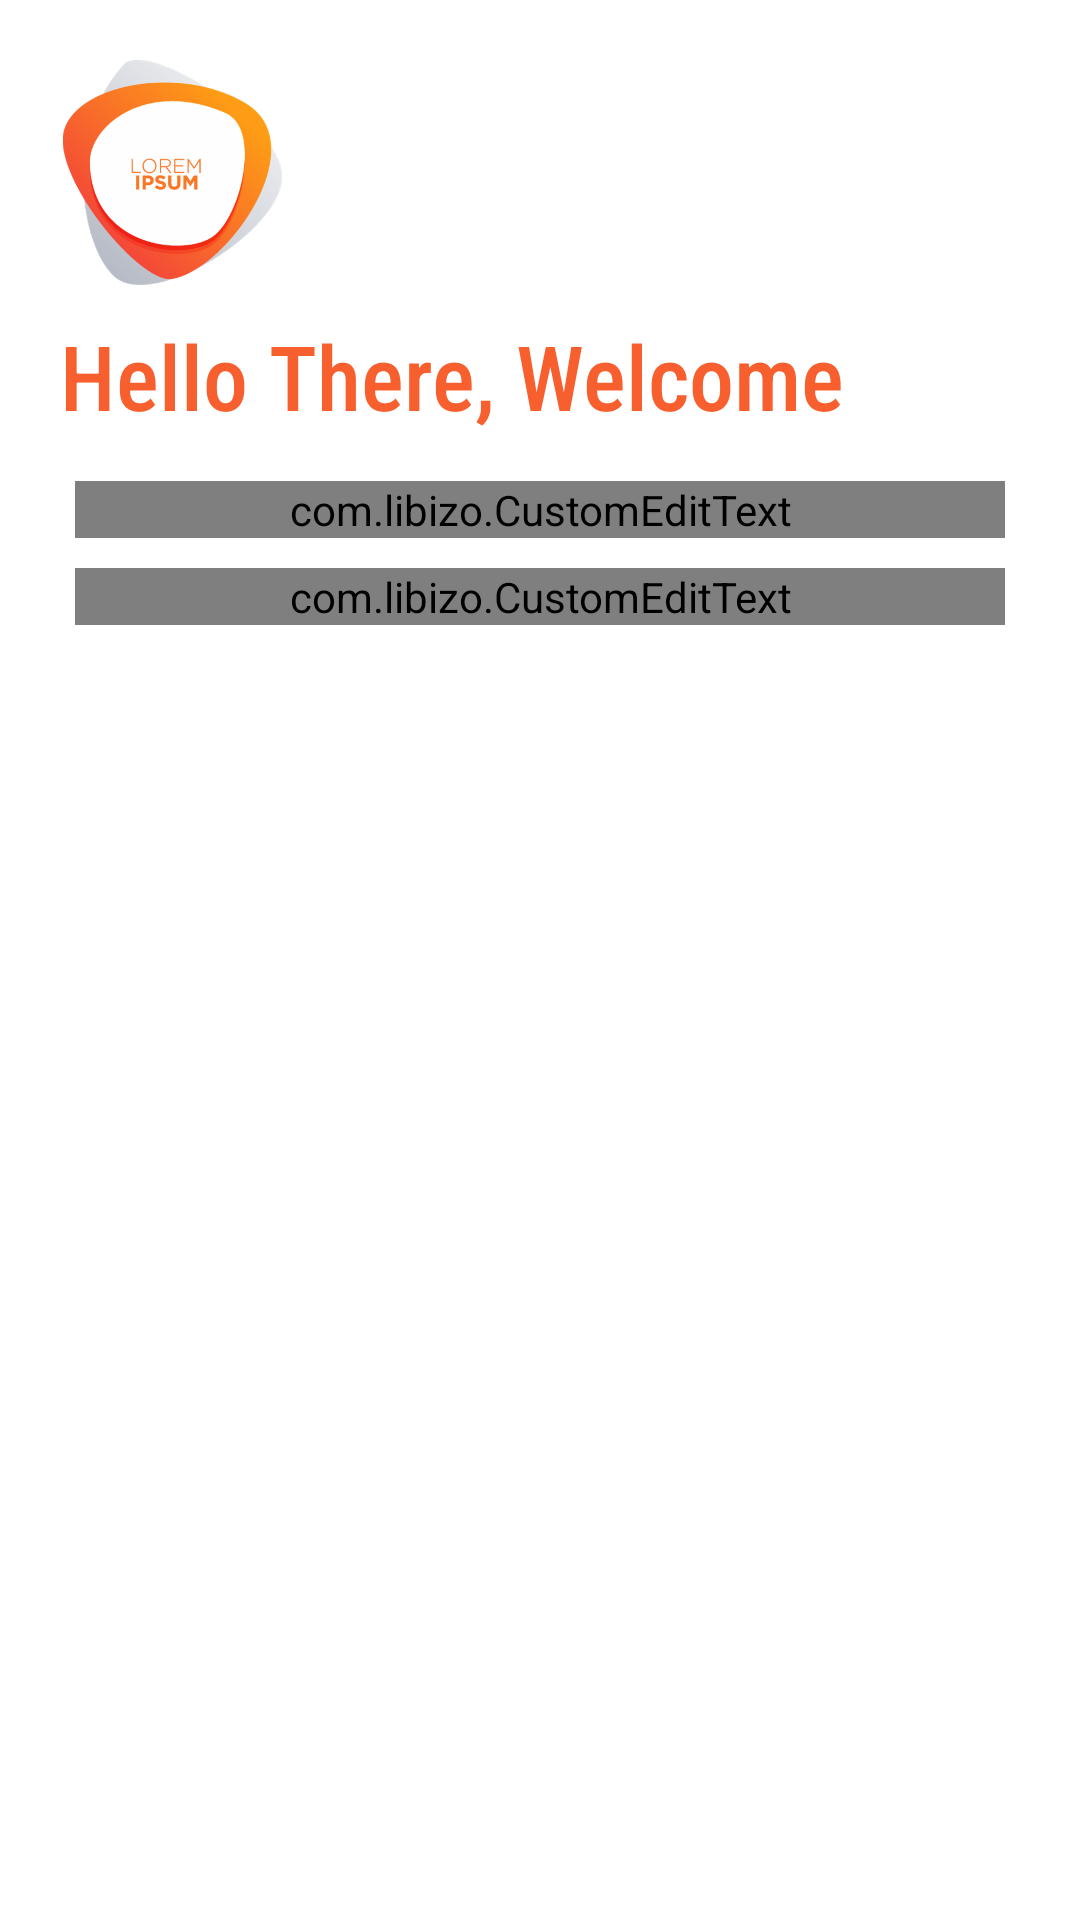

Icon bounding boxes for this 1080px x 1920px phone screenshot, format (x1, y1, x2, y2):
appicon: (63, 60, 282, 285)
